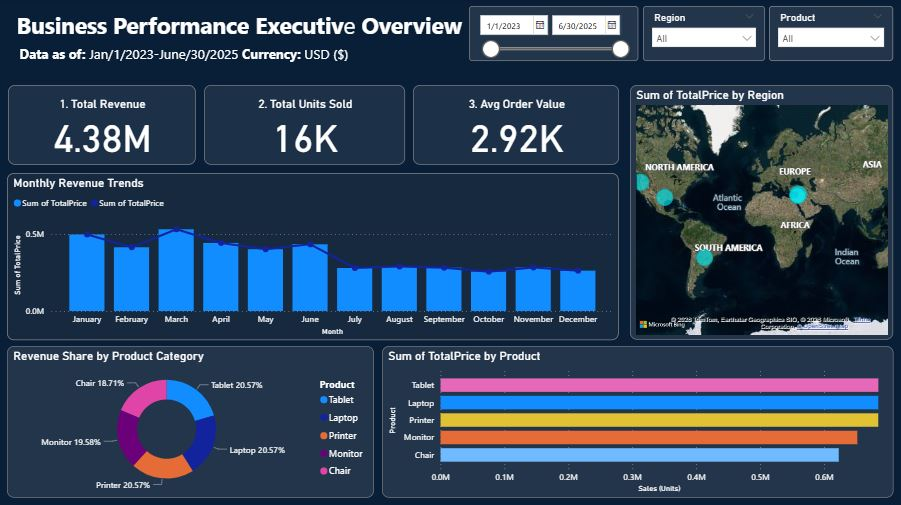

Layout of this report page (visuals, bound fields, positions):
{"tool":"powerbi","page":{"name":"Page 1","canvas":[1280,720],"ordinal":0},"visuals":[{"type":"textbox","box":[13.8,9.6,652.4,78.5],"z":0},{"type":"slicer","fields":{"Values":["Sheet1.OrderDate"]},"box":[665.7,10.3,239.5,77.9],"z":1000},{"type":"slicer","fields":{"Values":["Sheet1.Region"]},"box":[912.6,10.3,173.4,77.9],"z":2000},{"type":"slicer","fields":{"Values":["Sheet1.Product"]},"box":[1091.9,10.3,176.3,77.9],"z":3000},{"type":"card","title":"1. Total Revenue","fields":{"Values":["Sum(Sheet1.TotalPrice)"]},"box":[13.2,122,266,113.2],"z":4000},{"type":"card","title":"2. Total Units Sold","fields":{"Values":["Sum(Sheet1.Quantity)"]},"box":[291,122,285.1,113.2],"z":5000},{"type":"card","title":"3. Avg Order Value","fields":{"Values":["Avg(Sheet1.TotalPrice)"]},"box":[586.4,122,292.4,113.2],"z":6000},{"type":"clusteredBarChart","fields":{"Category":["Sheet1.Product"],"Y":["Sum(Sheet1.TotalPrice)"]},"box":[542.3,492.3,724.5,214.6],"z":7000},{"type":"donutChart","title":"Revenue Share by Product Category","fields":{"Y":["Sum(Sheet1.TotalPrice)"],"Category":["Sheet1.Product"]},"box":[11.8,492.3,520.2,214.6],"z":8000},{"type":"lineStackedColumnComboChart","title":"Monthly Revenue Trends","fields":{"Category":["Sheet1.OrderDate.Variation.Date Hierarchy.Year","Sheet1.OrderDate.Variation.Date Hierarchy.Month"],"Y":["Sum(Sheet1.TotalPrice)"],"Y2":["Sum(Sheet1.TotalPrice)"]},"box":[11.8,246.9,867,236.6],"z":9000},{"type":"map","title":"Sum of TotalPrice by Region","fields":{"Category":["Sheet1.Region"],"Size":["Sum(Sheet1.TotalPrice)"]},"box":[894.3,121.9,372.8,361.4],"z":10000},{"type":"textbox","box":[24.1,59.5,582.5,62.4],"z":11000}]}

Visuals, with their boxes in screenshot pixels (x1, y1, x2, y2), scaled from the page's 1280x720 canvas onto the 901x505 screenshot:
textbox: BBox(10, 7, 469, 62)
slicer - Sheet1.OrderDate: BBox(469, 7, 637, 62)
slicer - Sheet1.Region: BBox(642, 7, 764, 62)
slicer - Sheet1.Product: BBox(769, 7, 893, 62)
"1. Total Revenue" card: BBox(9, 86, 197, 165)
"2. Total Units Sold" card: BBox(205, 86, 406, 165)
"3. Avg Order Value" card: BBox(413, 86, 619, 165)
clusteredBarChart - Sheet1.Product x Sum(Sheet1.TotalPrice): BBox(382, 345, 892, 496)
"Revenue Share by Product Category" donutChart: BBox(8, 345, 374, 496)
"Monthly Revenue Trends" lineStackedColumnComboChart: BBox(8, 173, 619, 339)
"Sum of TotalPrice by Region" map: BBox(630, 85, 892, 339)
textbox: BBox(17, 42, 427, 85)
